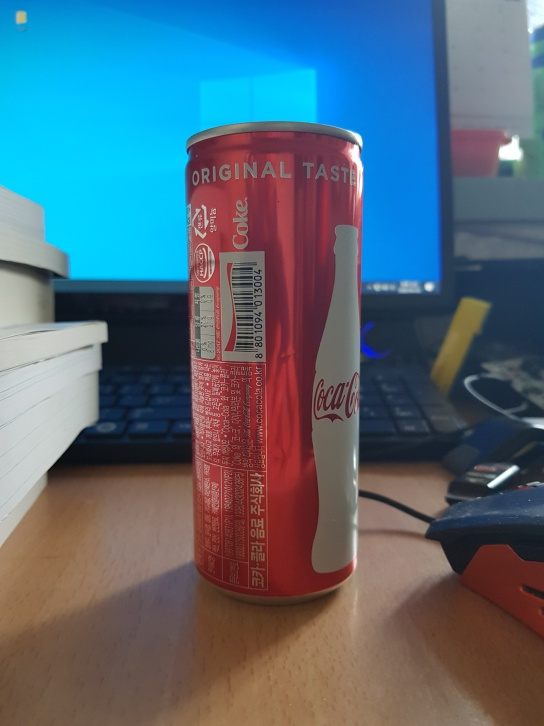Can: (182, 121, 365, 609)
